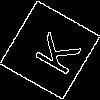K: (25, 25, 82, 78)
